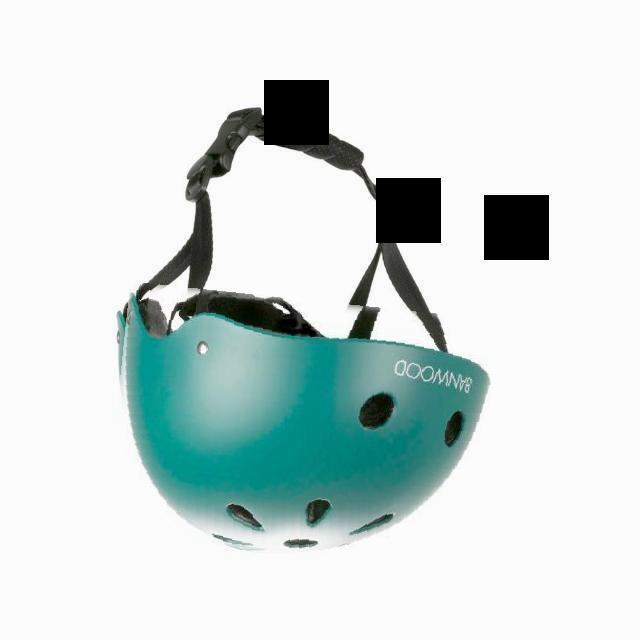helmet: (110, 291, 492, 564)
